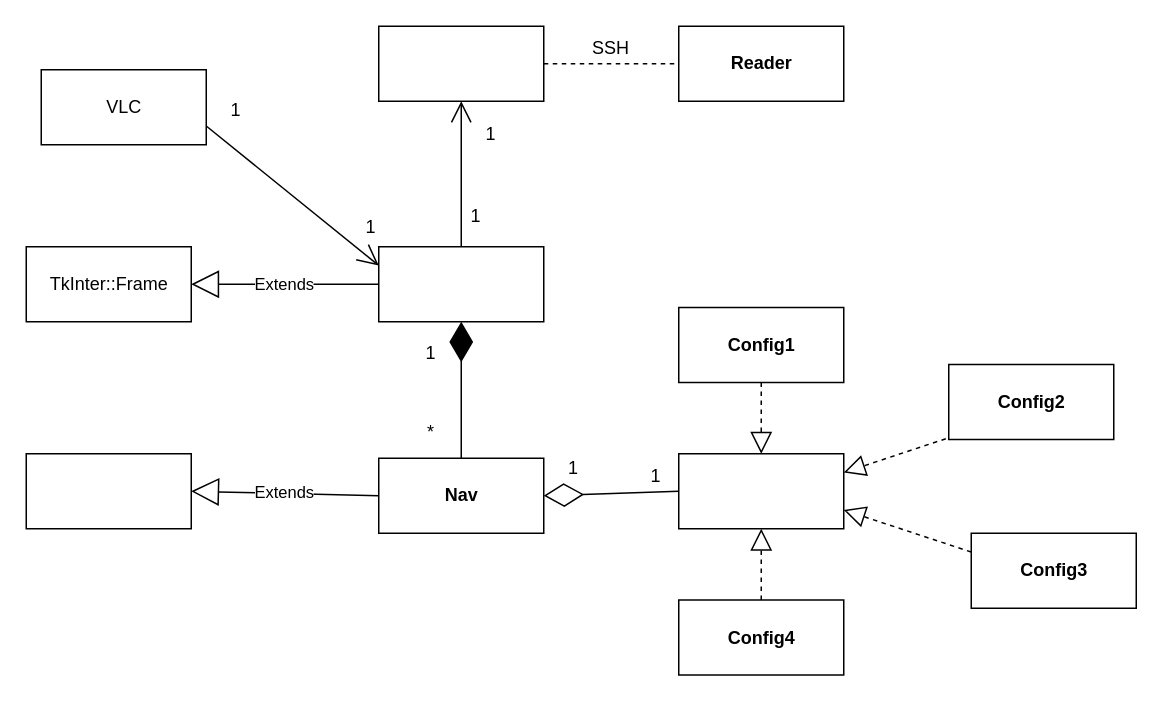
Some shapes in this 1163 by 702 pixel diagram are drawn without their labels. The shapes that lost their labels are listed below. From the top down, each one's centre as x and y in pixels, then its label:
At (x=460, y=63): "Main".
At (x=460, y=283): "App".
At (x=108, y=490): "TkInter::Label".
At (x=760, y=490): "«abstract» Configuration".
